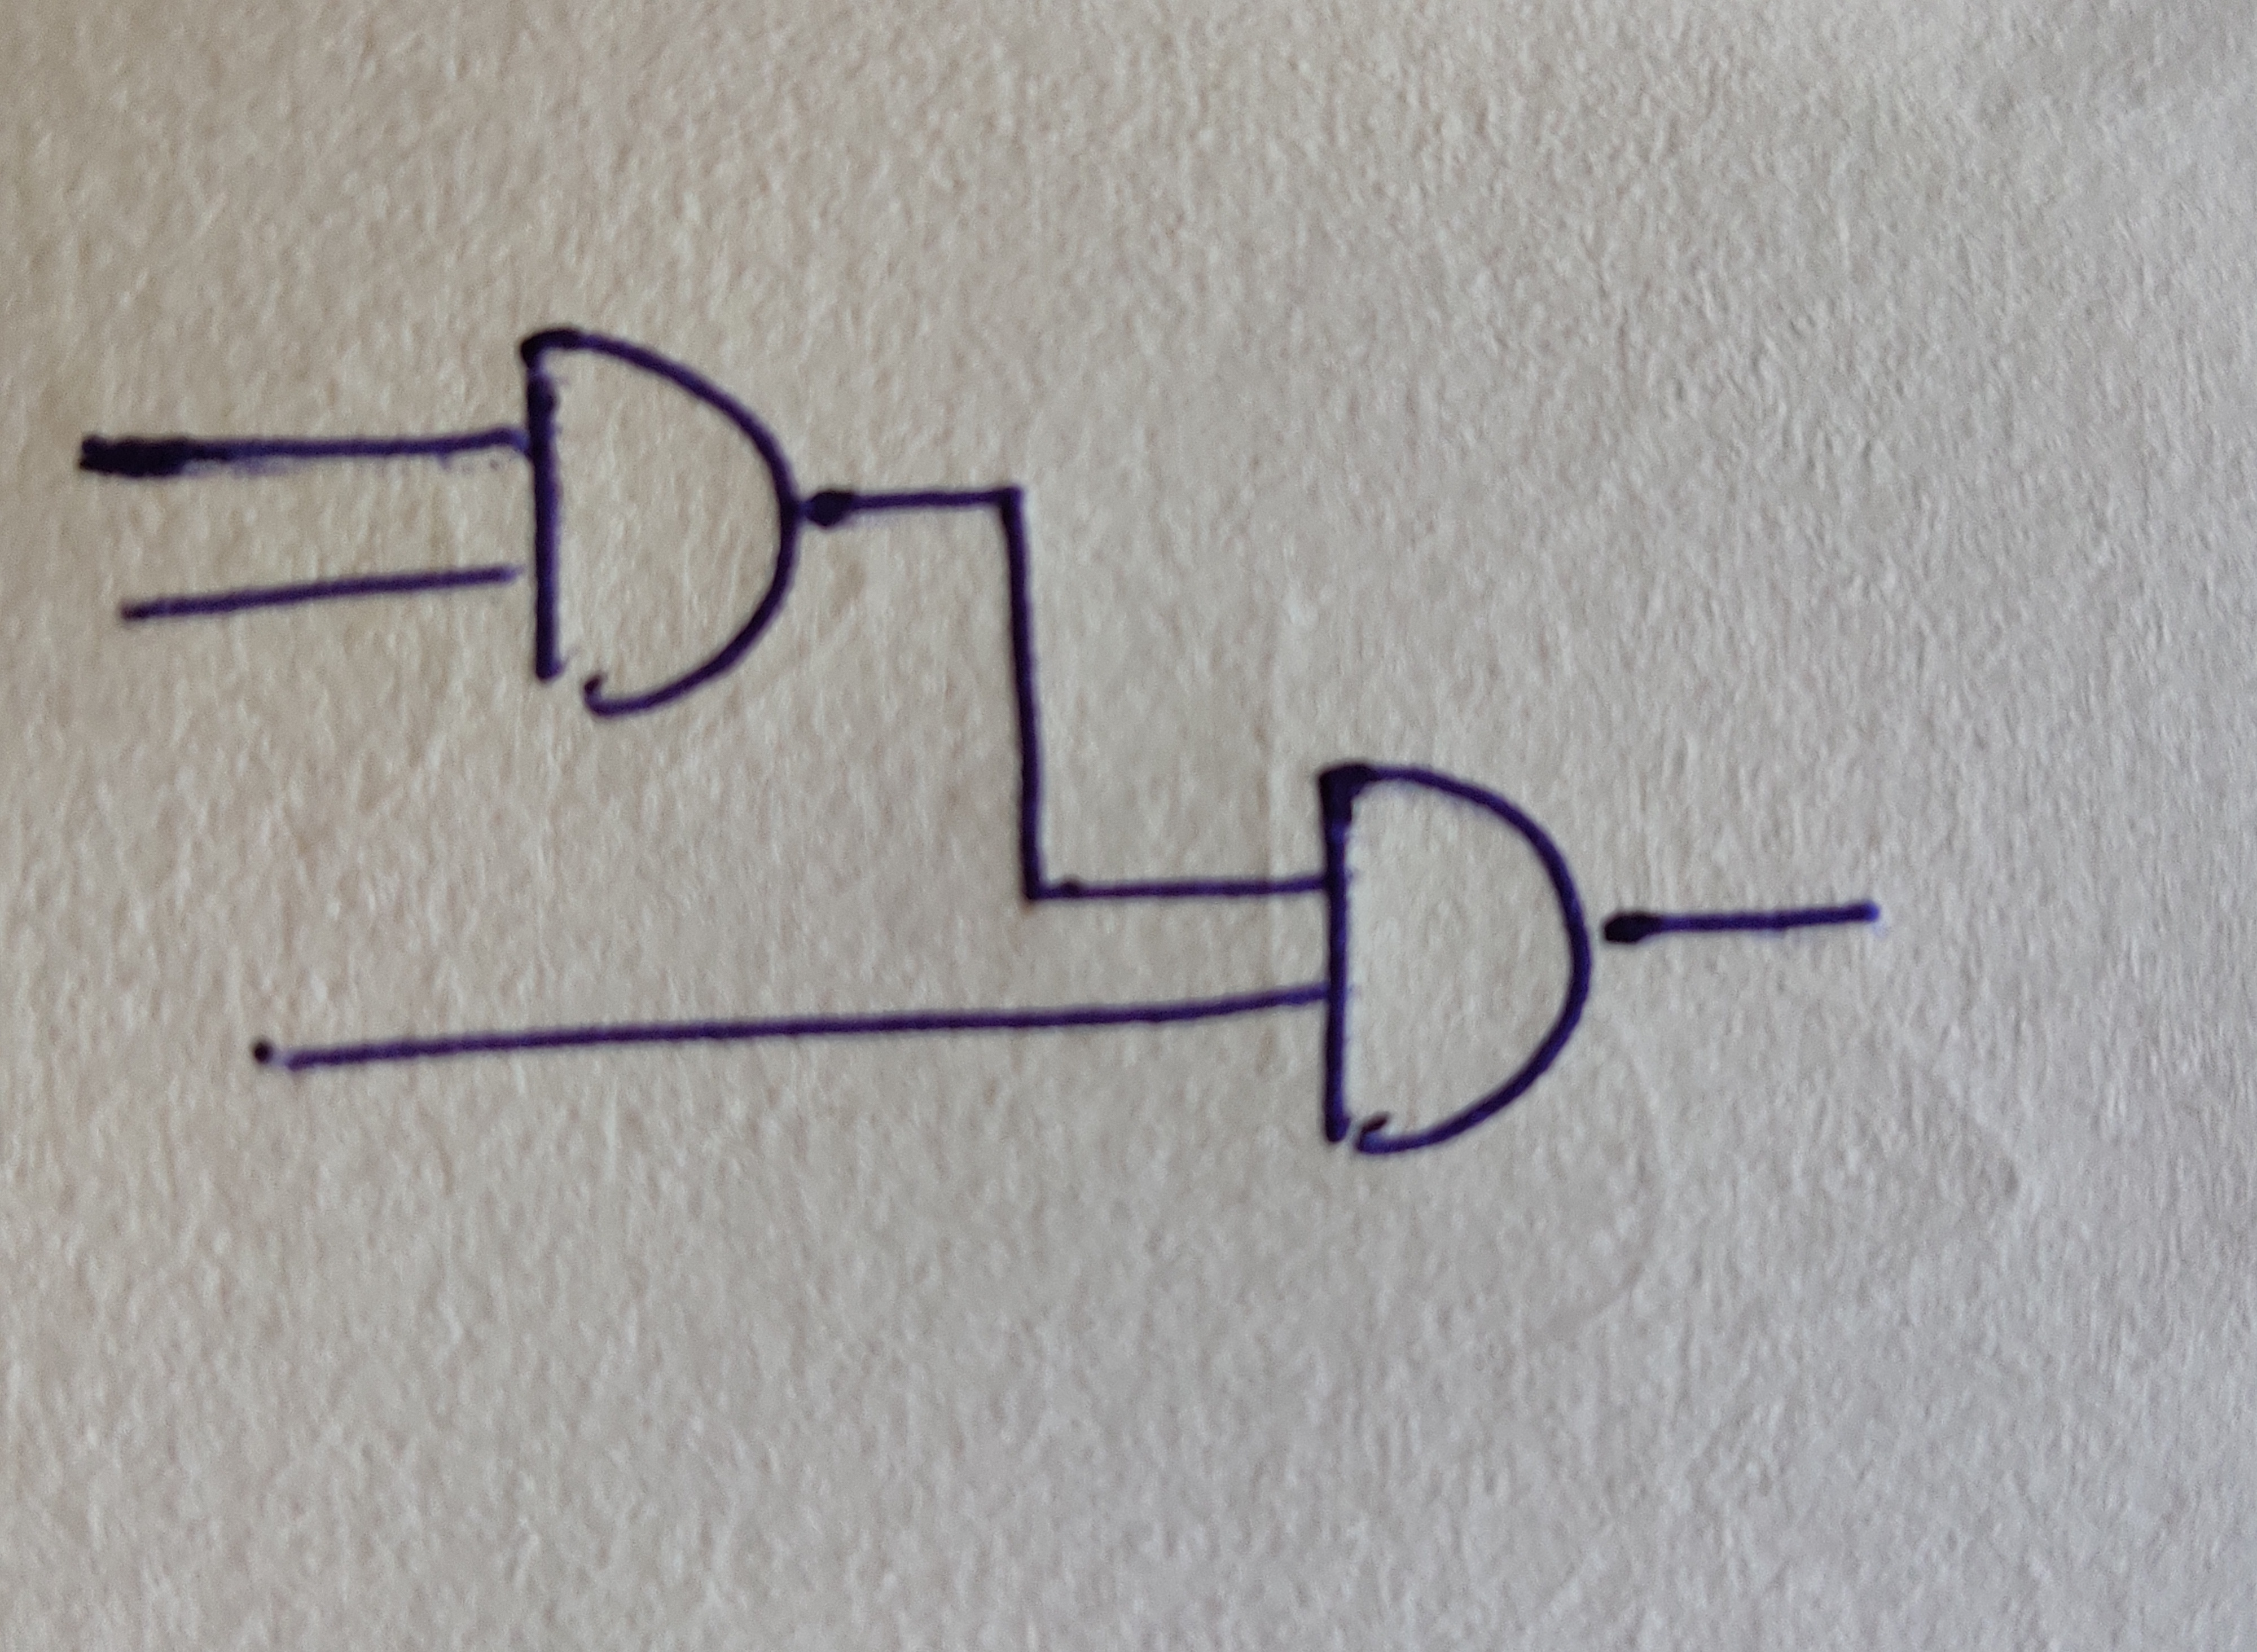and: (520, 328, 804, 718), (1320, 764, 1589, 1156)
